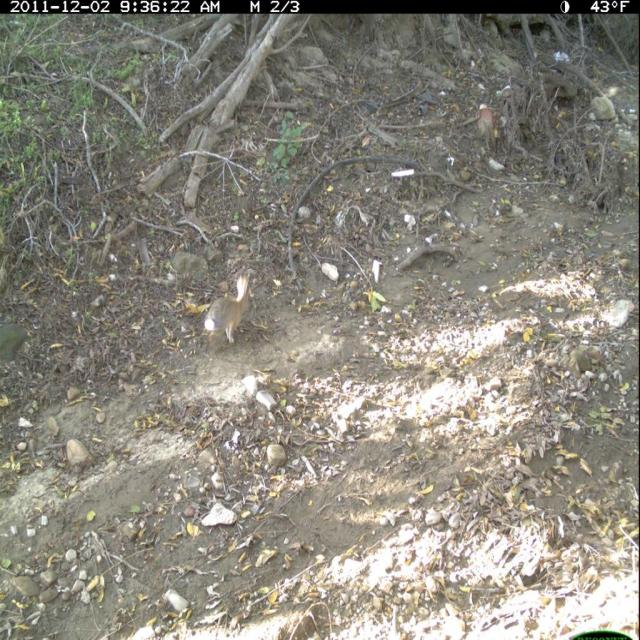rabbit: (198, 268, 261, 356)
